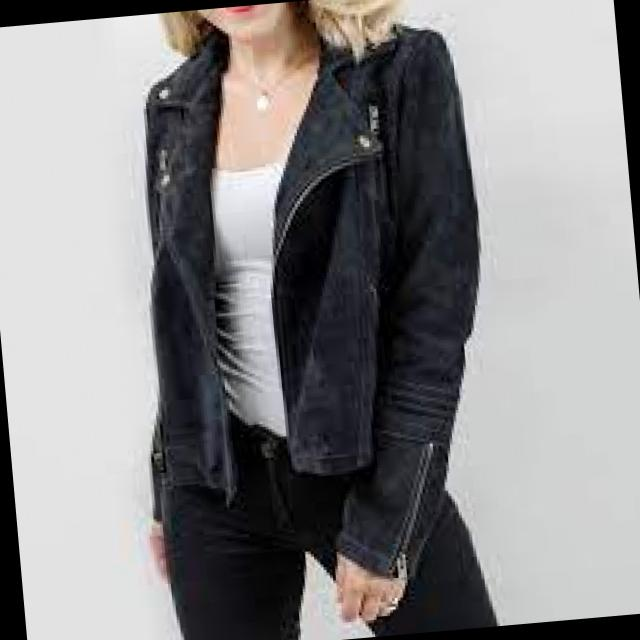Jacket: (78, 6, 540, 614)
